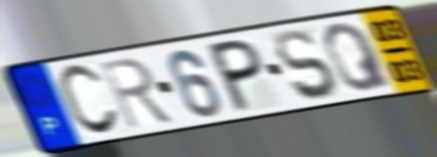6: (166, 47, 223, 120)
C: (56, 62, 123, 139)
P: (206, 36, 266, 116)
Q: (320, 20, 396, 94)
R: (96, 55, 178, 133)
S: (273, 27, 340, 104)
